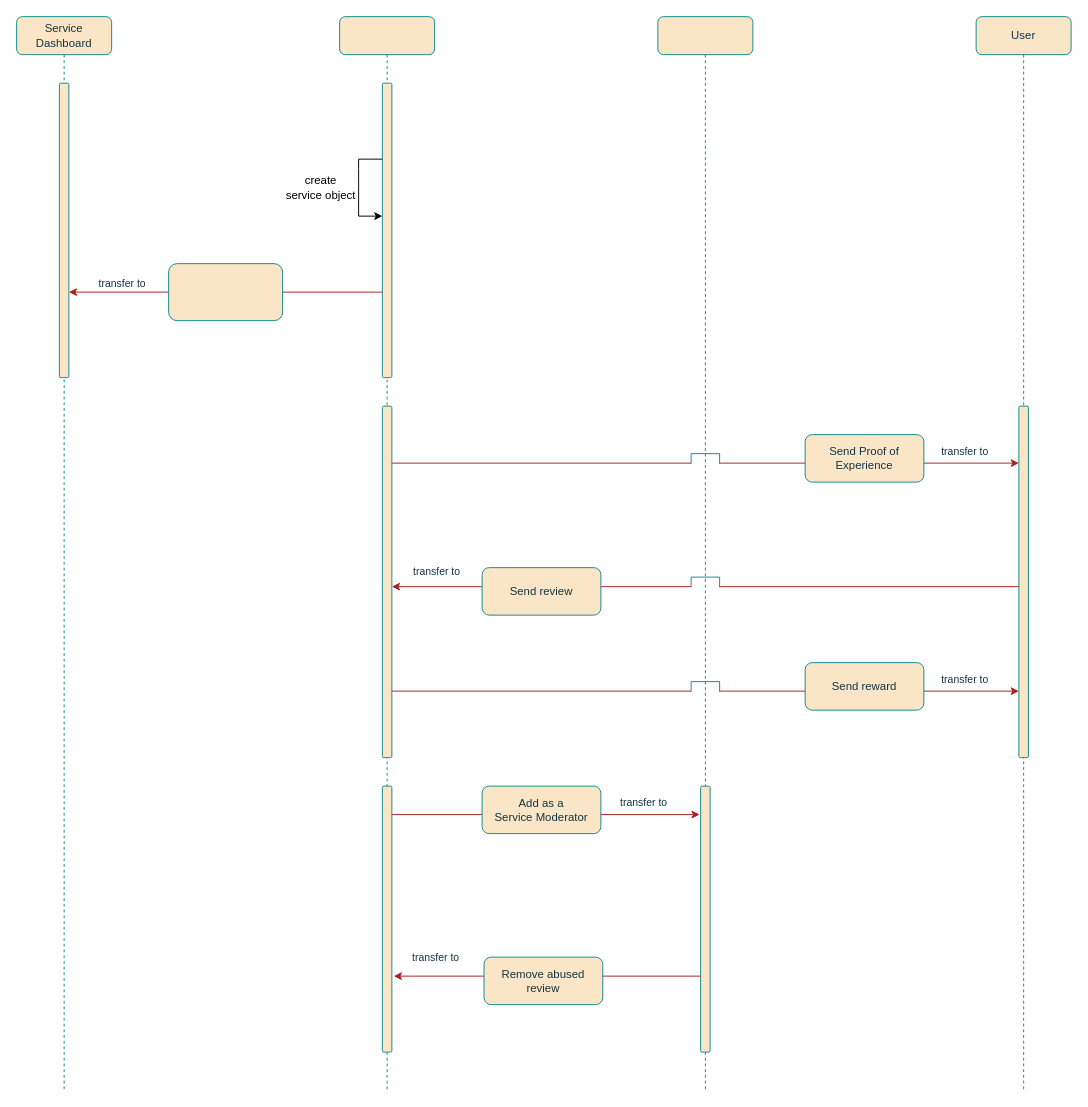
The diagram is 1088 pixels wide and 1107 high, and some of its shapes have lost their labels. The box of each missing label's shape, as (x1, y1, x2, y2) in pixels:
Add service to dashboard: (168, 263, 283, 321)
Moderator: (657, 16, 753, 1090)
Service: (339, 16, 435, 1090)
